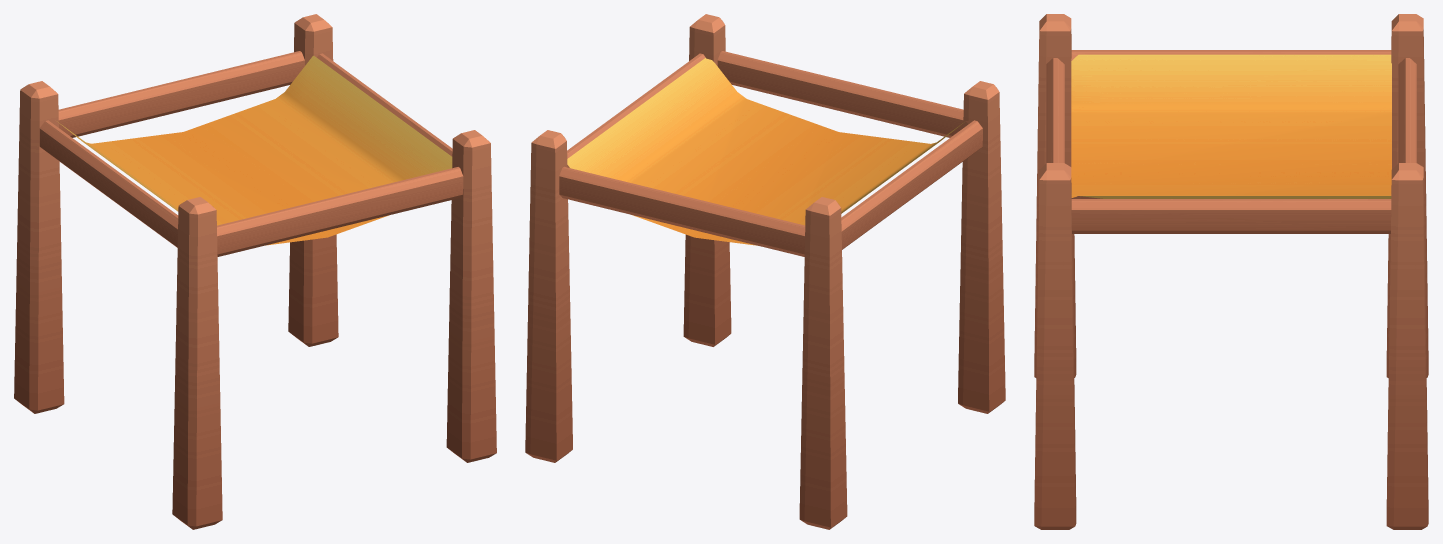
Rendered from kenney-survival__structure-canvas.glb.
The picture shows the model from 3 angles, left to right: view 1: azimuth 30°, elevation 25°; view 2: azimuth 150°, elevation 25°; view 3: azimuth 270°, elevation 25°; orthographic projection. The views are drawn at different scales.
Parts seen in each view (by area): view 1: structure-canvas; view 2: structure-canvas; view 3: structure-canvas.
Boxes of the visible parts, box(x1,y1,x2,y2) form: structure-canvas: box(14, 14, 496, 529); structure-canvas: box(525, 14, 1005, 529); structure-canvas: box(1034, 14, 1428, 529).
Size of the model in its own units: 0.4998 by 0.5 by 0.4998.
Materials: 1 (1 with a texture image).
